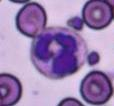N: (30, 27, 86, 79)
